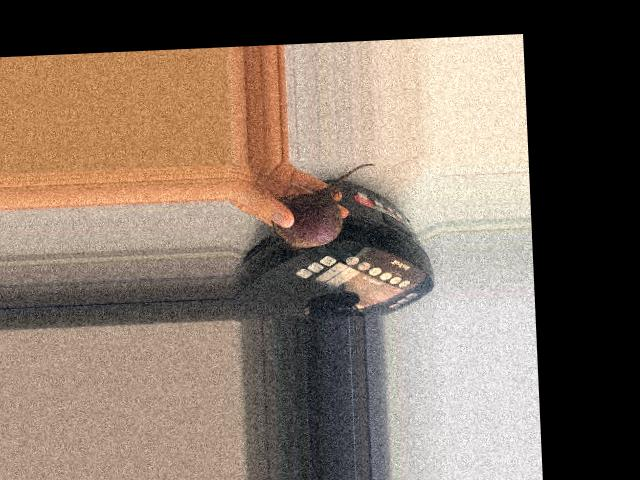beet: (270, 163, 379, 252)
